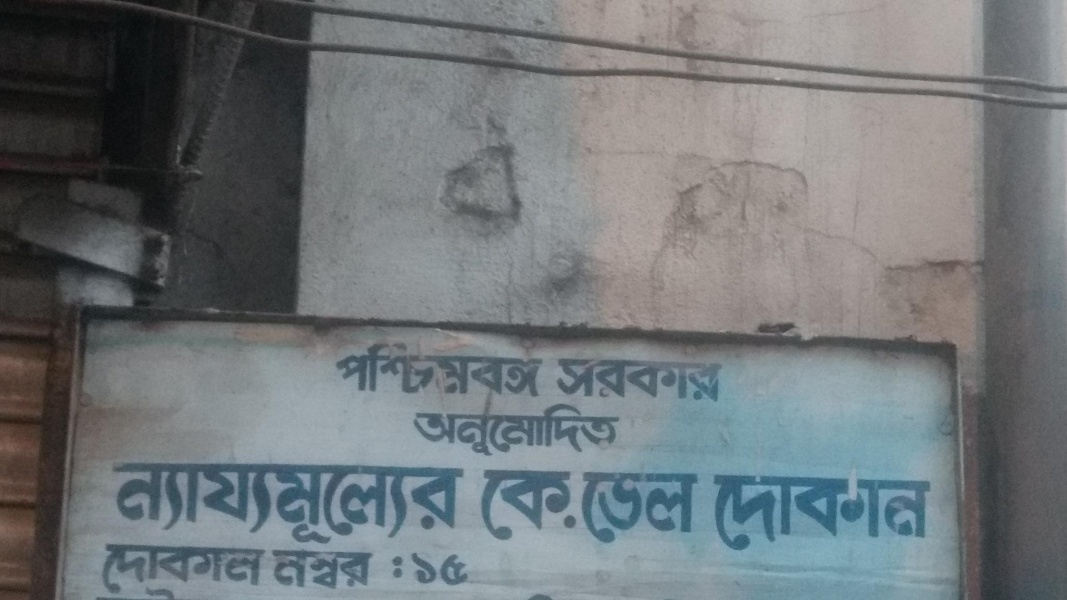text: (113, 459, 128, 548), (129, 459, 144, 548), (145, 459, 160, 548), (161, 459, 176, 548), (177, 459, 192, 548), (193, 459, 208, 548), (209, 459, 224, 548), (225, 459, 240, 548), (241, 459, 256, 548), (257, 459, 272, 548), (273, 459, 288, 548), (289, 459, 304, 548), (305, 459, 320, 548), (321, 459, 336, 548), (337, 459, 352, 548), (353, 459, 368, 548), (369, 459, 384, 548), (385, 459, 400, 548), (401, 459, 416, 548), (417, 459, 432, 548), (433, 459, 448, 548), (449, 459, 464, 548), (721, 472, 736, 554), (737, 472, 752, 554), (753, 472, 768, 554), (769, 472, 784, 554), (785, 472, 800, 554), (801, 472, 816, 554), (817, 472, 832, 554), (833, 472, 848, 554), (849, 472, 864, 554), (865, 472, 880, 554), (881, 472, 896, 554), (897, 472, 912, 554), (913, 472, 928, 554), (593, 465, 608, 547), (609, 465, 624, 547), (625, 465, 640, 547), (641, 465, 656, 547), (657, 465, 672, 547), (673, 465, 688, 547), (689, 465, 704, 547), (481, 468, 496, 550), (497, 468, 512, 550), (513, 468, 528, 550), (529, 468, 544, 550), (545, 468, 560, 550), (561, 468, 576, 550), (929, 472, 943, 554), (337, 330, 352, 404), (353, 330, 368, 404), (369, 330, 384, 404), (385, 330, 400, 404), (401, 330, 416, 404), (417, 330, 432, 404), (433, 330, 448, 404), (449, 330, 464, 404), (465, 330, 480, 404), (481, 330, 496, 404), (497, 330, 512, 404), (513, 330, 528, 404), (529, 330, 544, 404), (322, 330, 336, 404), (609, 402, 625, 465), (417, 402, 432, 465), (433, 402, 448, 465), (449, 402, 464, 465), (465, 402, 480, 465), (481, 402, 496, 465), (497, 402, 512, 465), (513, 402, 528, 465), (529, 402, 544, 465), (545, 402, 560, 465), (561, 402, 576, 465), (577, 402, 592, 465), (593, 402, 608, 465), (113, 540, 128, 597), (129, 540, 144, 597), (145, 540, 160, 597), (161, 540, 176, 597), (177, 540, 192, 597), (193, 540, 208, 597), (209, 540, 224, 597), (225, 540, 240, 597), (241, 540, 256, 597), (582, 465, 592, 547), (257, 540, 270, 597), (561, 355, 576, 403), (577, 355, 592, 403), (593, 355, 608, 403), (609, 355, 624, 403), (625, 355, 640, 403), (641, 355, 656, 403), (657, 355, 672, 403), (673, 355, 688, 403), (689, 355, 704, 403), (705, 355, 720, 403), (273, 548, 288, 595), (289, 548, 304, 595), (305, 548, 320, 595), (321, 548, 336, 595), (337, 548, 352, 595), (353, 548, 368, 595), (101, 540, 112, 597), (713, 472, 720, 554), (577, 468, 584, 550), (401, 549, 416, 587), (417, 549, 432, 587), (433, 549, 448, 587), (449, 549, 464, 587), (465, 549, 479, 587), (545, 330, 551, 404), (369, 548, 377, 595), (391, 549, 400, 587), (721, 355, 728, 403), (465, 459, 468, 548), (412, 402, 416, 465), (97, 586, 112, 600), (113, 586, 128, 600), (129, 586, 144, 600), (145, 586, 160, 600), (161, 586, 176, 600), (556, 355, 560, 403), (529, 590, 544, 600), (545, 590, 560, 600), (269, 548, 272, 595), (177, 586, 185, 600), (111, 459, 112, 548), (705, 465, 706, 547), (479, 468, 480, 550), (94, 586, 96, 600)
